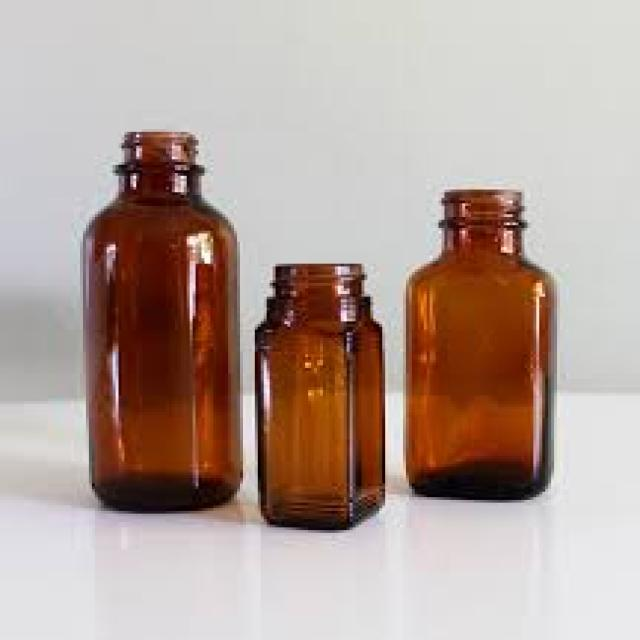glass: (80, 129, 243, 511), (406, 187, 548, 497), (252, 264, 385, 527)
